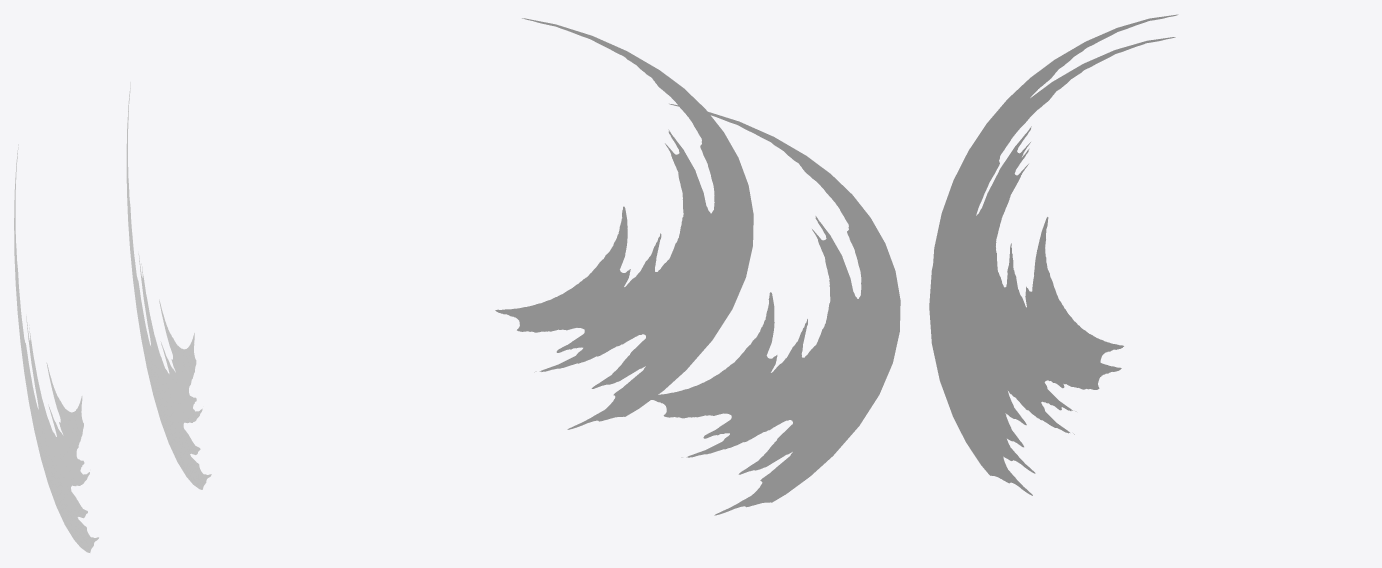
Rendered from fx_cookie0015_skill02.fbx.
The picture shows the model from 3 angles, left to right: view 1: azimuth 30°, elevation 25°; view 2: azimuth 150°, elevation 25°; view 3: azimuth 270°, elevation 25°; orthographic projection. The views are drawn at different scales.
Visible parts, largest first — view 1: L_scratch2, L_scratch1; view 2: L_scratch2, L_scratch1; view 3: L_scratch1, L_scratch2.
Boxes of the visible parts, box(x1,y1,x2,y2) form: L_scratch2: box(14, 144, 98, 552); L_scratch1: box(126, 82, 211, 489); L_scratch2: box(642, 103, 900, 515); L_scratch1: box(495, 18, 753, 429); L_scratch1: box(929, 37, 1175, 495); L_scratch2: box(933, 14, 1178, 473).
Size of the model in its own units: 367 by 482 by 362.
